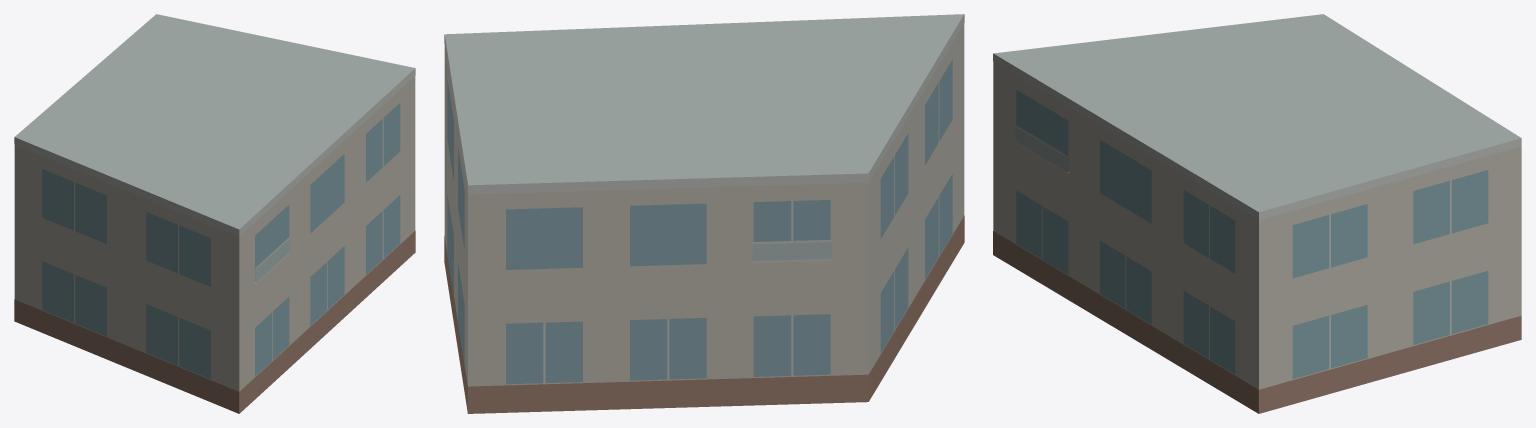
The model's file is survey-upis-33035210.glb.
3 views of the same model, side by side, from view 1: azimuth 30°, elevation 25°; view 2: azimuth 150°, elevation 25°; view 3: azimuth 270°, elevation 25° (orthographic). The views are drawn at different scales.
Visible parts, largest first — view 1: survey-upis-33035210.tmp; view 2: survey-upis-33035210.tmp; view 3: survey-upis-33035210.tmp.
Part boxes in pixels (<box>): survey-upis-33035210.tmp: <box>14,14,415,413</box>; survey-upis-33035210.tmp: <box>444,14,964,413</box>; survey-upis-33035210.tmp: <box>993,14,1521,413</box>.
Size of the model in its own units: 12.87 by 6.1 by 14.5.
